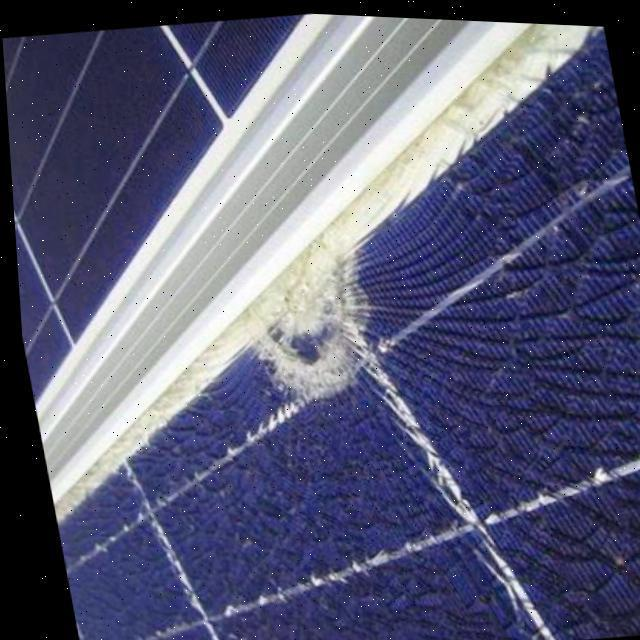Anomaly Solar Panel: (4, 20, 640, 640)
Structural Damage: (235, 228, 415, 420)
